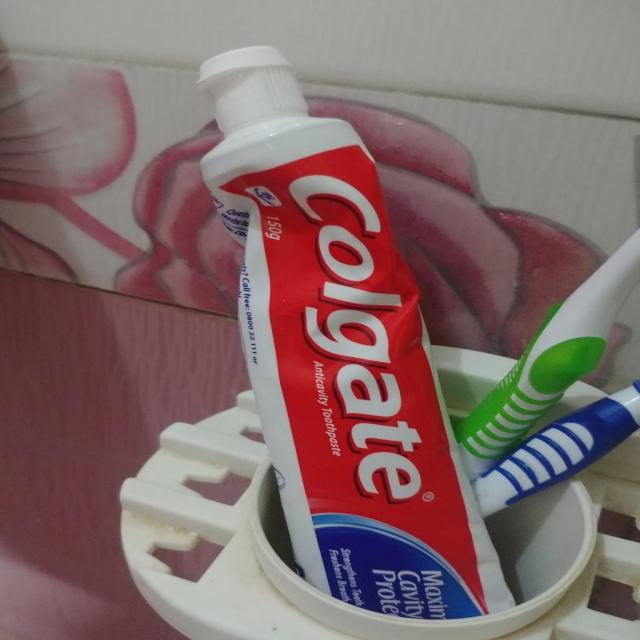Toothpaste: (198, 45, 522, 629)
